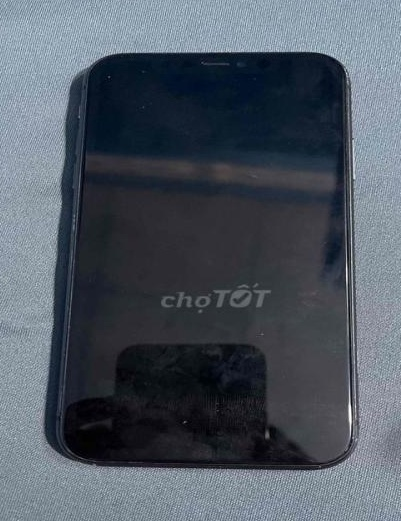scratch: (96, 61, 159, 86), (245, 170, 267, 183), (136, 99, 152, 112), (176, 417, 187, 425)
